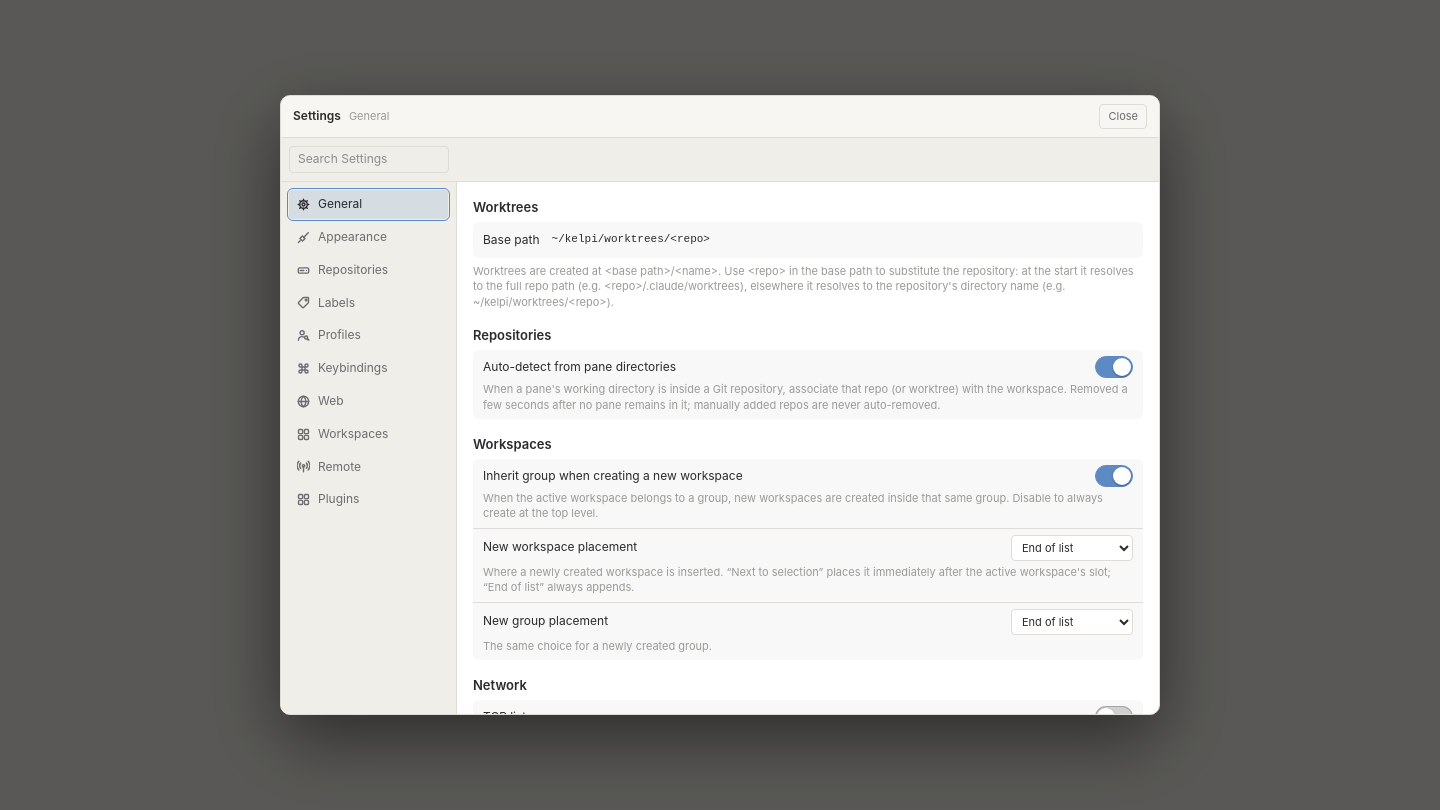
Test: the Settings window › switches tabs on click
What coordinates should you click on to do the following:
click the tab with test id "settings-tab-button-profiles"
I would click on:
 (368, 336)
Its box is [289, 321, 448, 350].
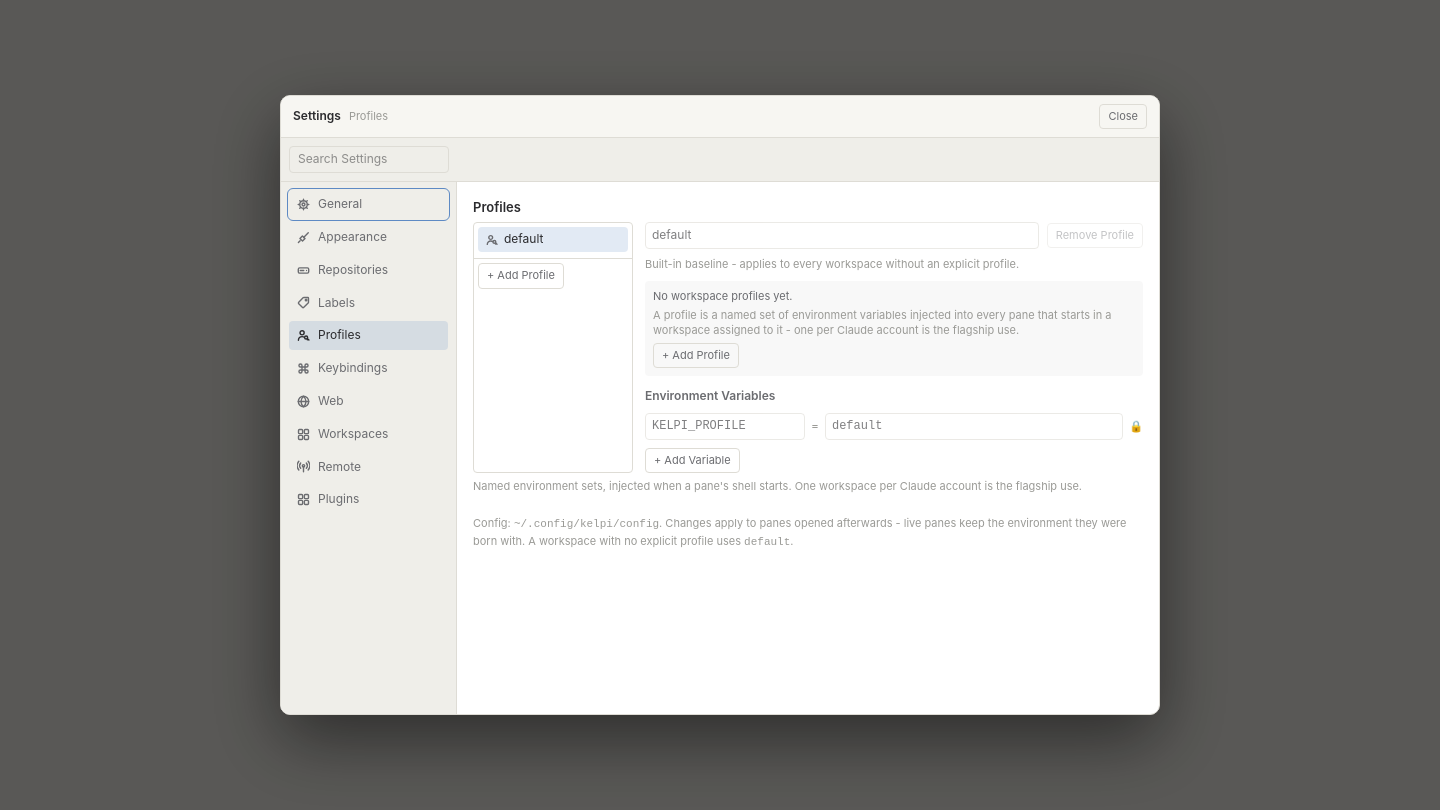
Expected: the element with test id "settings-tab-profiles" is shown, [473, 198, 1143, 552]
